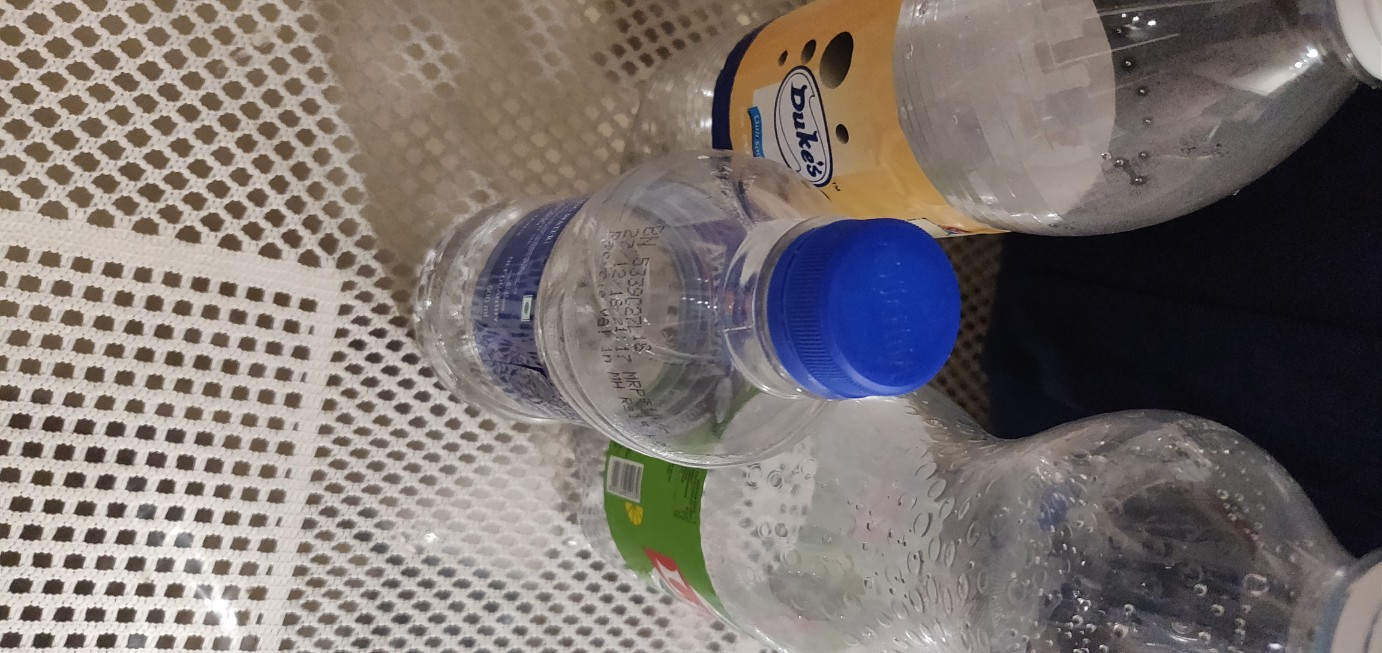Electronics: (530, 340, 1382, 651), (499, 2, 1380, 266), (362, 138, 988, 481)
